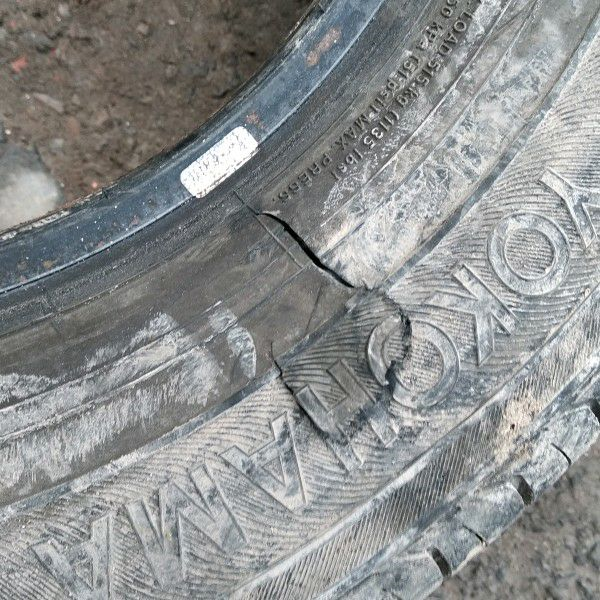cut: (254, 209, 417, 450)
